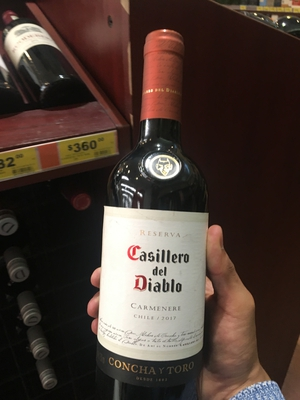casillero del diablo carmenere: (92, 23, 216, 400)
